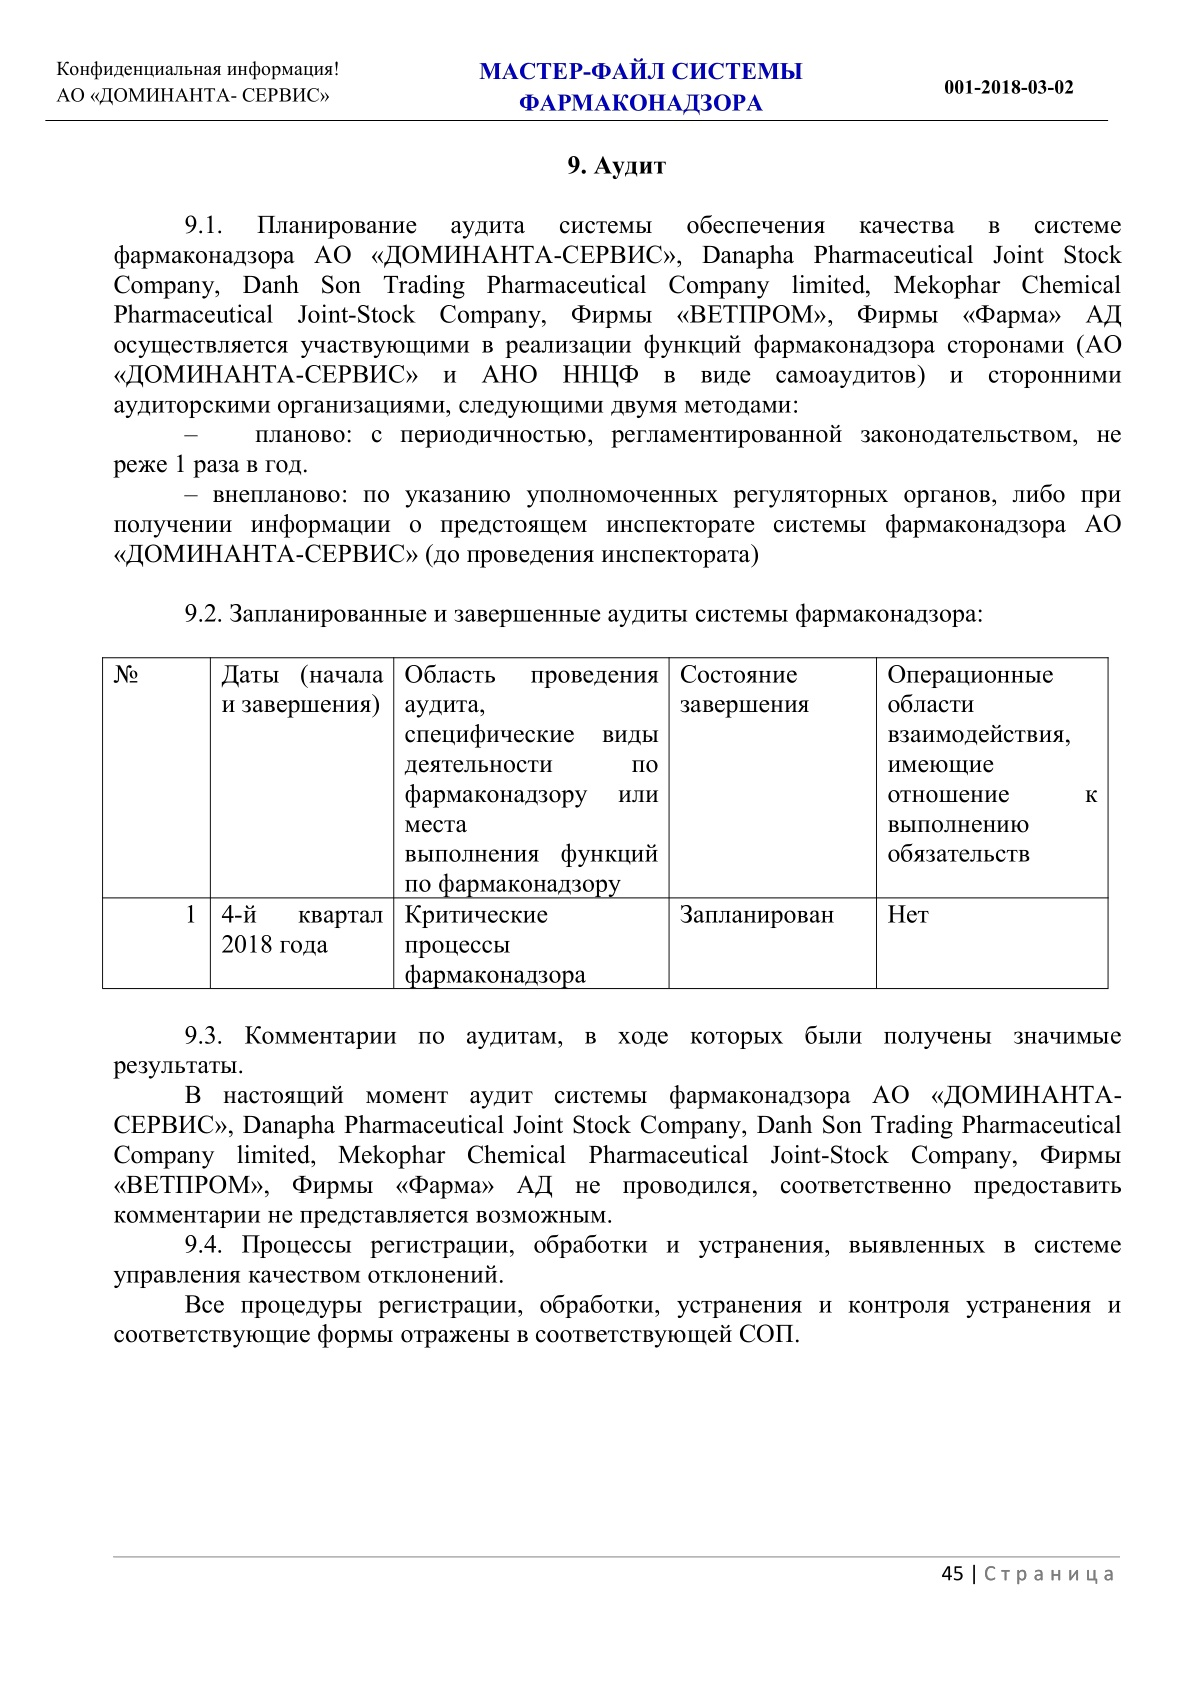full_lined: (101, 657, 1109, 990)
